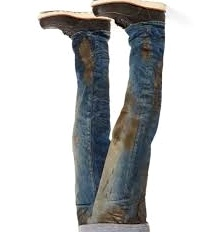earth: (114, 119, 137, 148), (153, 65, 163, 109), (103, 207, 123, 224), (82, 43, 90, 83), (141, 42, 150, 59), (81, 212, 87, 225)
